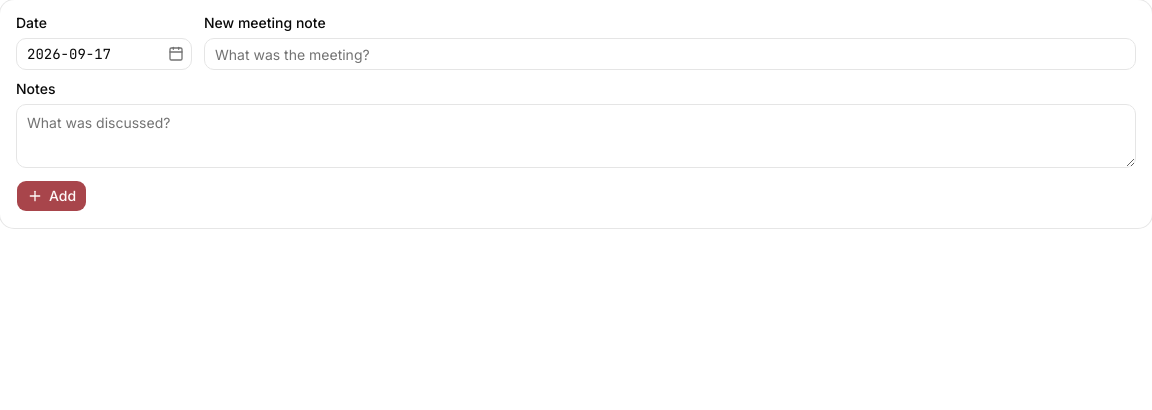
Test: MeetingNoteCapture › resets and collapses after a successful capture
Step 1. Type "Sync" into the field labelled "New meeting note" → x=670, y=54, box [204,38,1136,70]
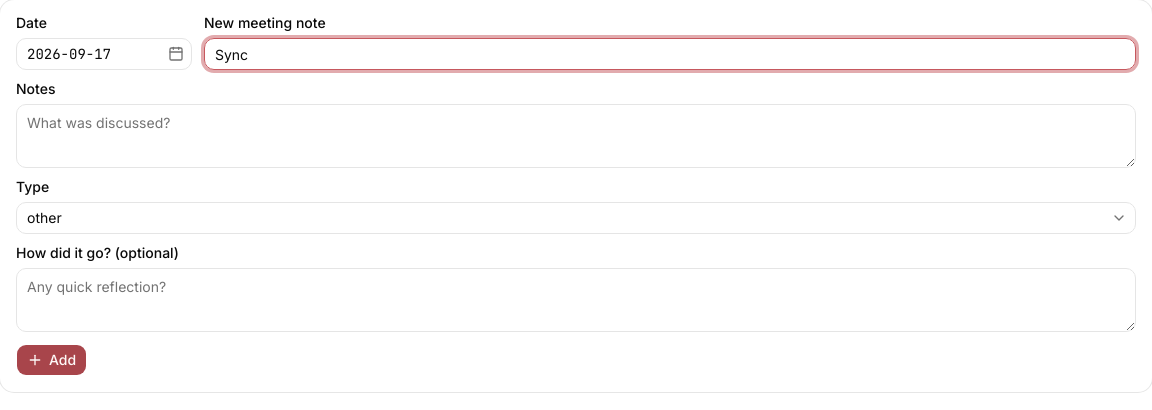
Step 2. Type "Notes here" into the text box labelled "Notes" → x=576, y=136, box [16,104,1136,168]
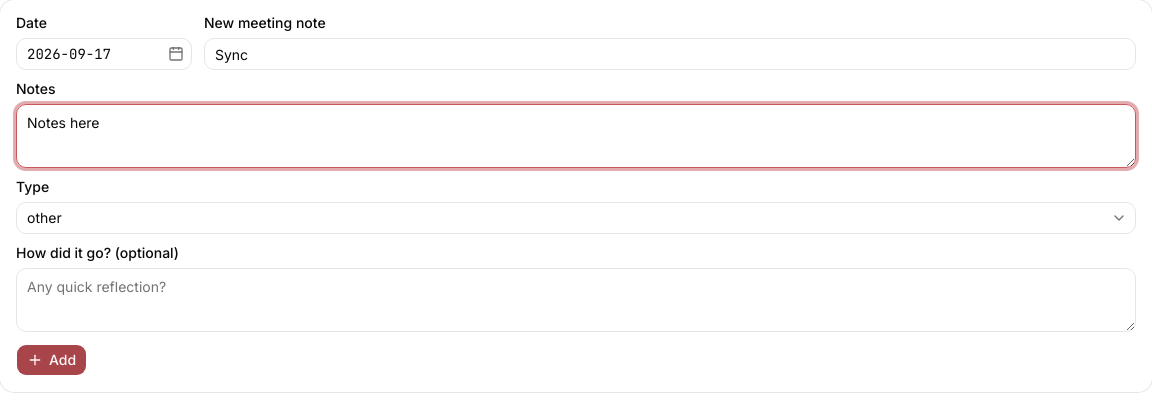
Step 3. Click the button "Add" → x=52, y=360, box [16,344,87,376]
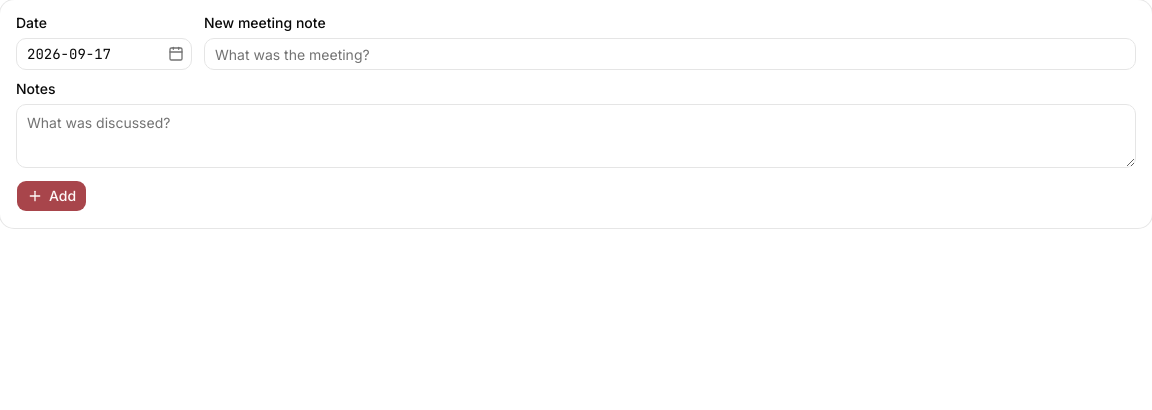
Now the field labelled "New meeting note" is empty, box [204,38,1136,70]
Now the text "Type" is gone
